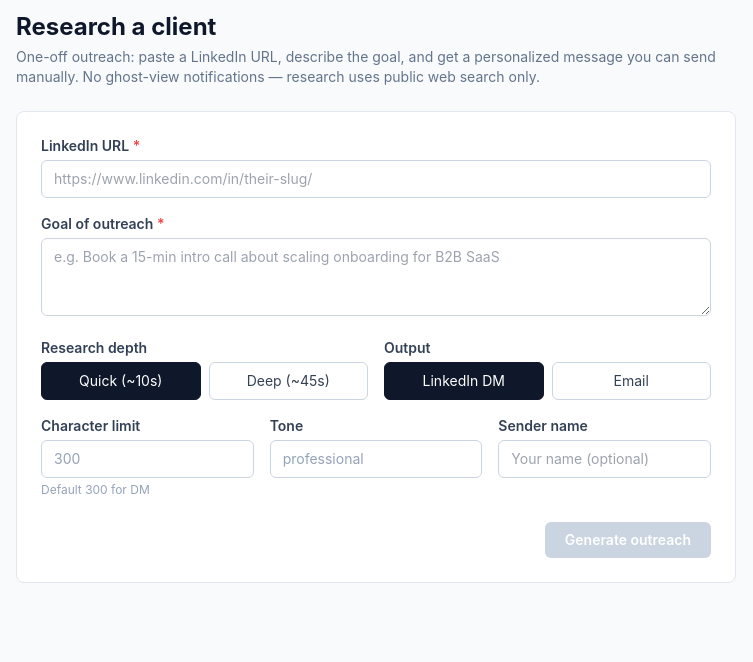
Test: ResearchClient page › surfaces backend error detail
This screenshot has width=753, height=662.
Type "https://example.com/" into the field with test id "input-linkedin-url" at (376, 179), box [41,160,711,198]
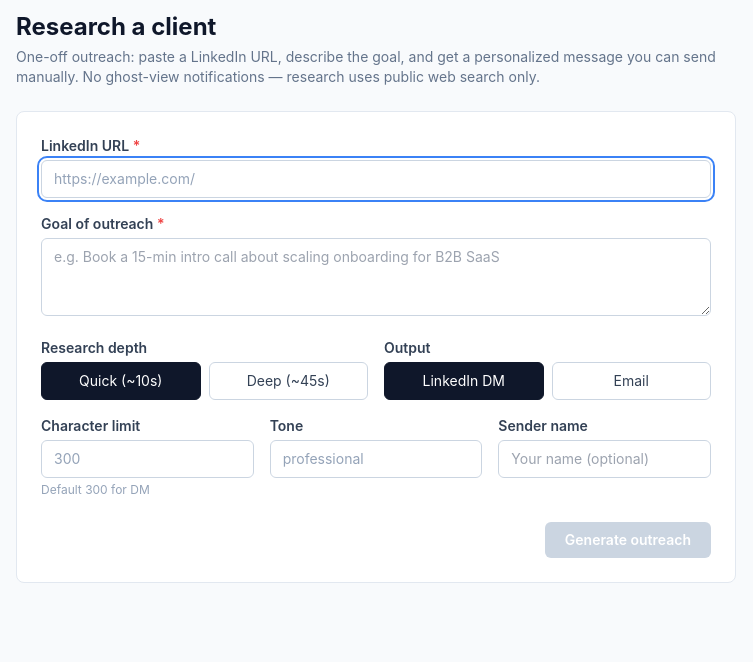
Type "ping" into the text box with test id "input-goal" at (376, 277), box [41,238,711,316]
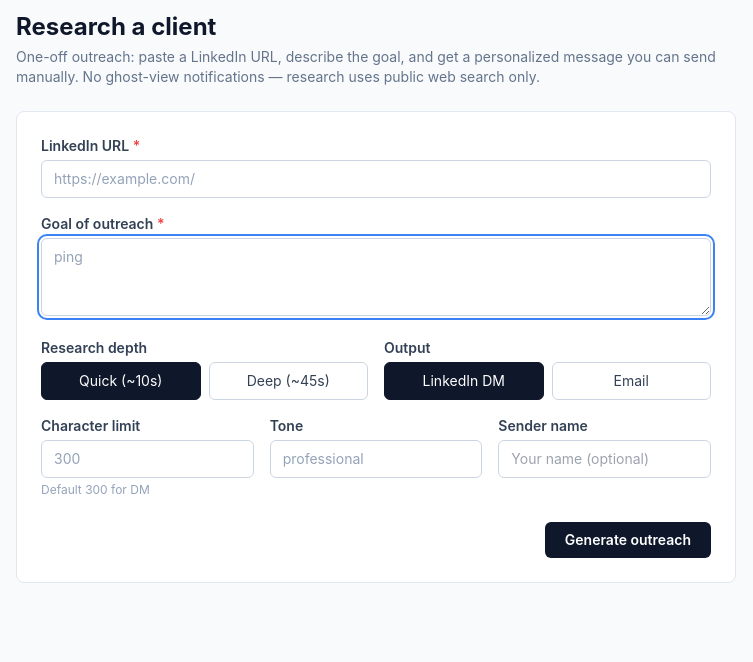
Click the button with test id "submit-research" at (628, 540), box [545,522,711,558]
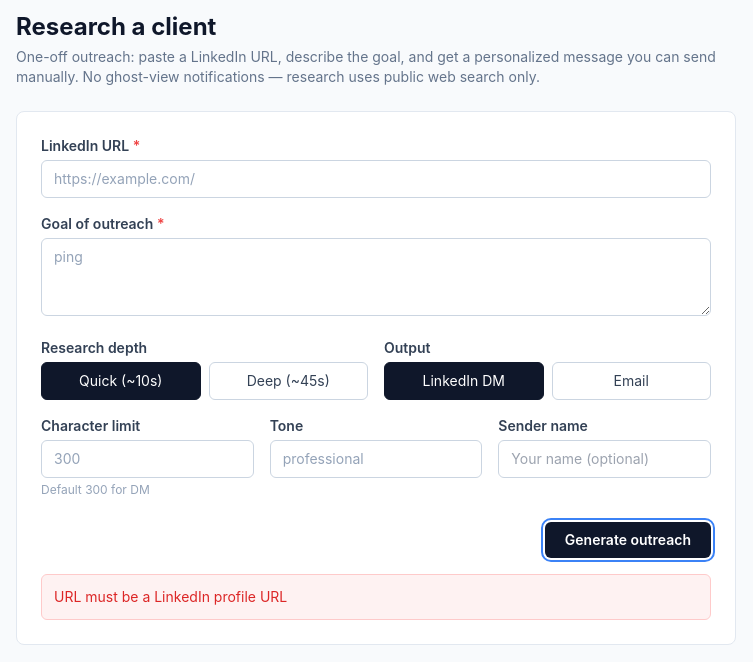
Result: the text with test id "error-message" shows "LinkedIn profile URL" at [54,588,287,605]
